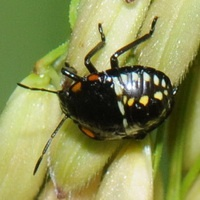insect: (18, 16, 175, 173)
